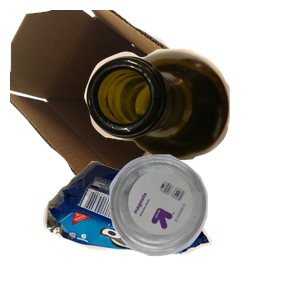cardboard: (10, 10, 218, 190)
glass: (82, 46, 300, 199)
plastic: (107, 152, 300, 300)
trash: (40, 158, 245, 300)
